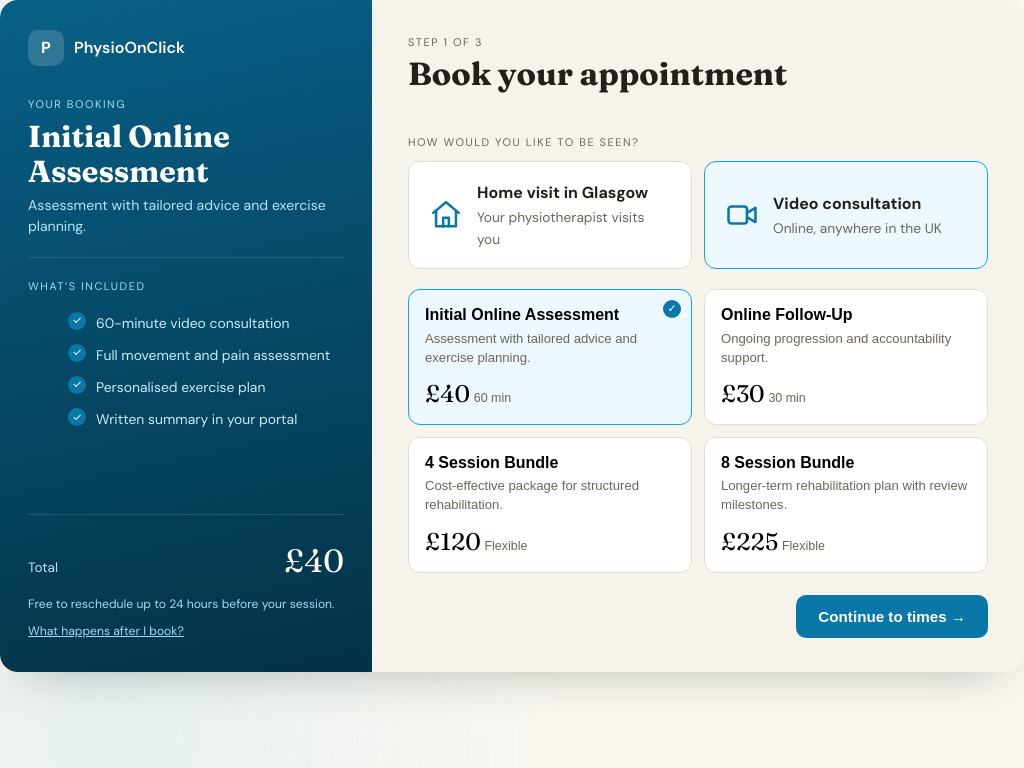
Test: booking visit type › blocks an uncovered postcode and offers video instead
The image size is (1024, 768).
Step 1. Click the radio button labelled "Home visit in Glasgow Your physiotherapist visits you" → click(550, 215), box [408,161,692,269]
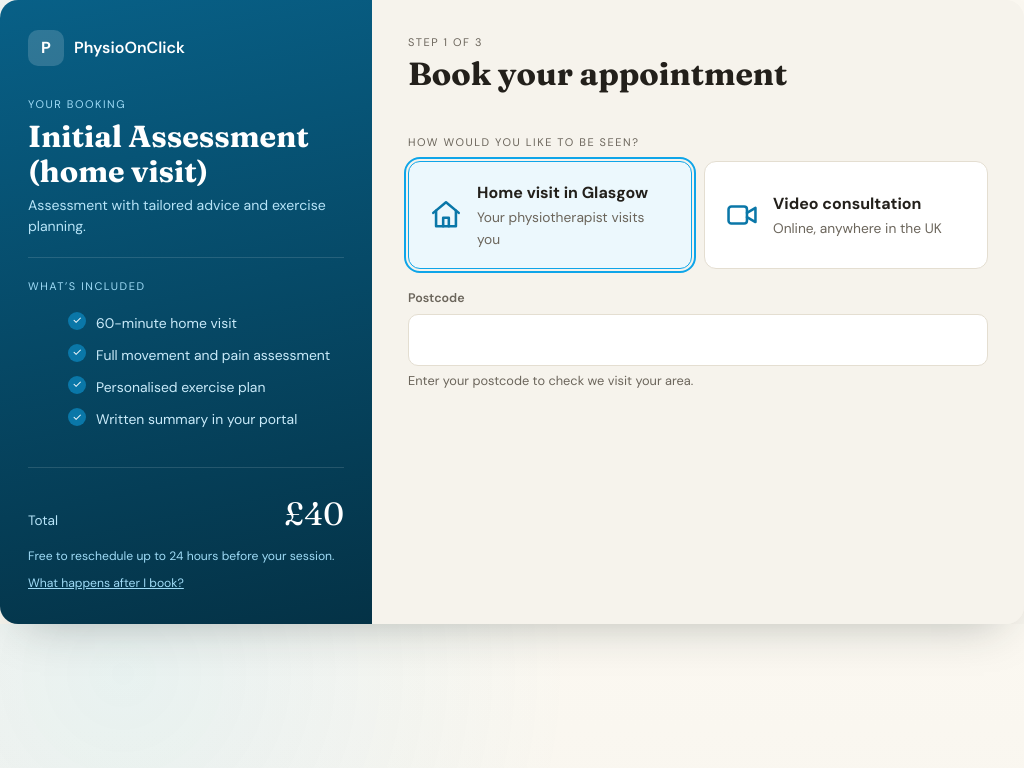
Step 2. Type "EH1 1AA" into the field labelled "Postcode" → (698, 340), box [408,314,988,366]
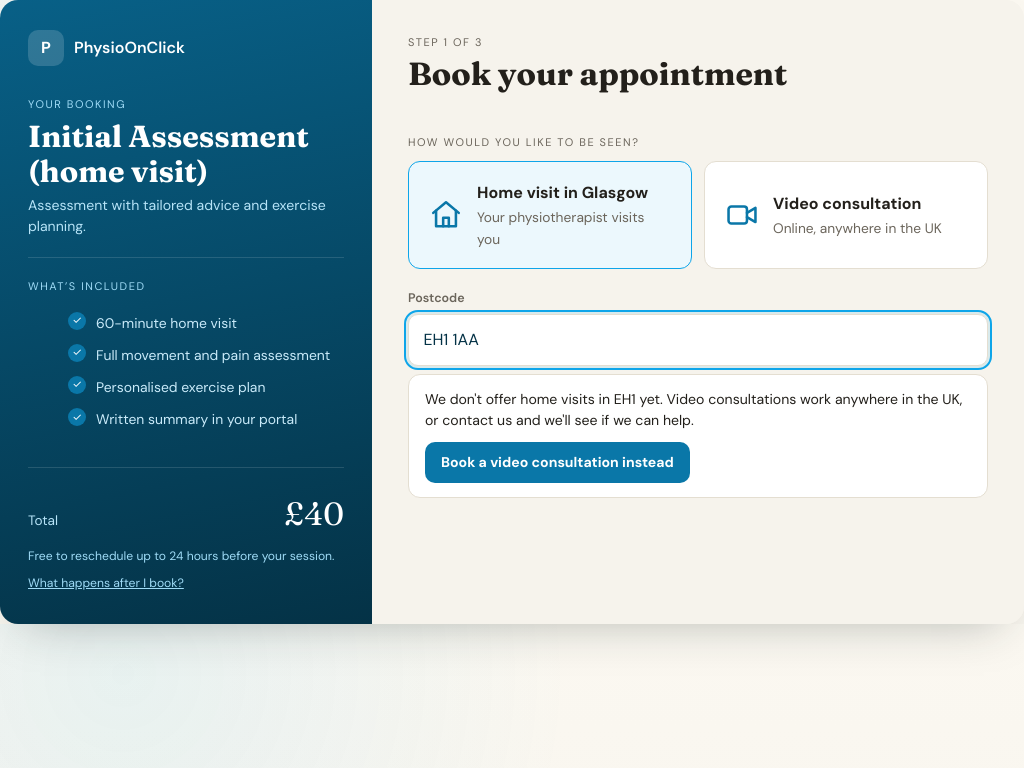
Check: the button "Continue to times" is not shown
Check: the message shows "We don't offer home visits in EH1 yet.", box [425,390,962,429]
Step 3. Click the button "Book a video consultation instead" → click(557, 462), box [425,442,690,483]
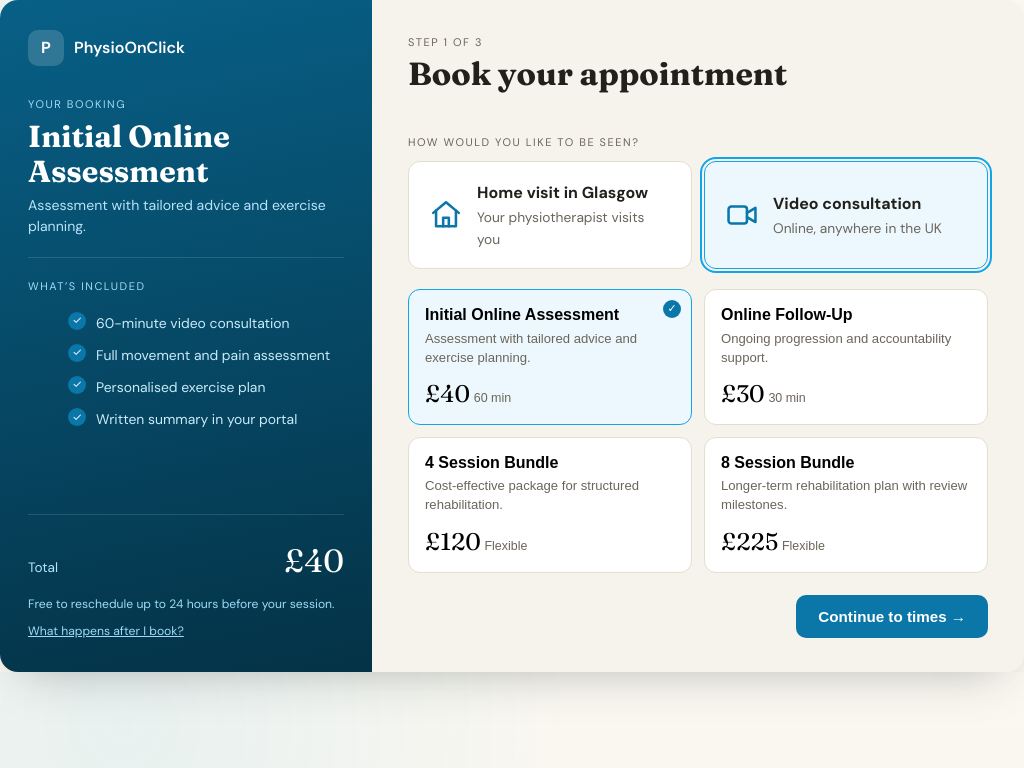
Check: the button "Continue to times →" is shown, box [796,594,988,638]
